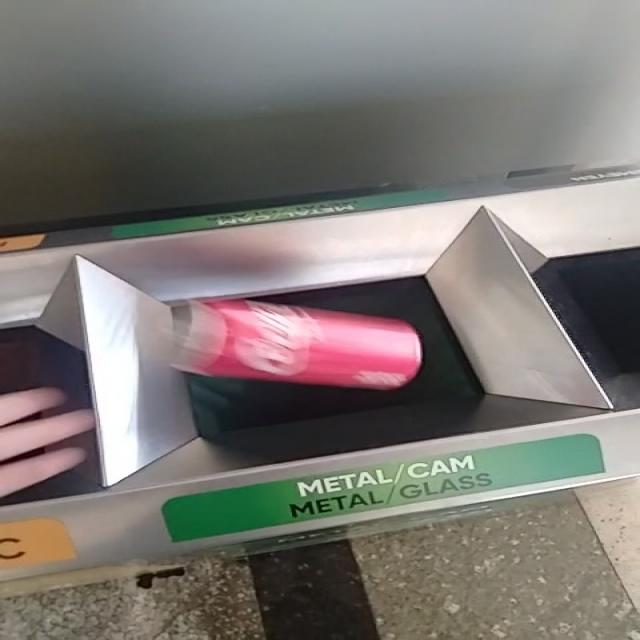bin: (3, 178, 640, 486)
metal: (172, 300, 423, 390)
